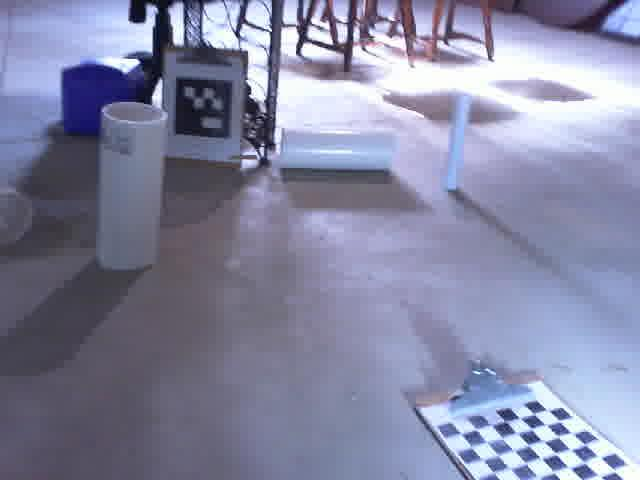coral: (95, 99, 173, 272), (275, 122, 400, 176), (0, 176, 39, 250)
